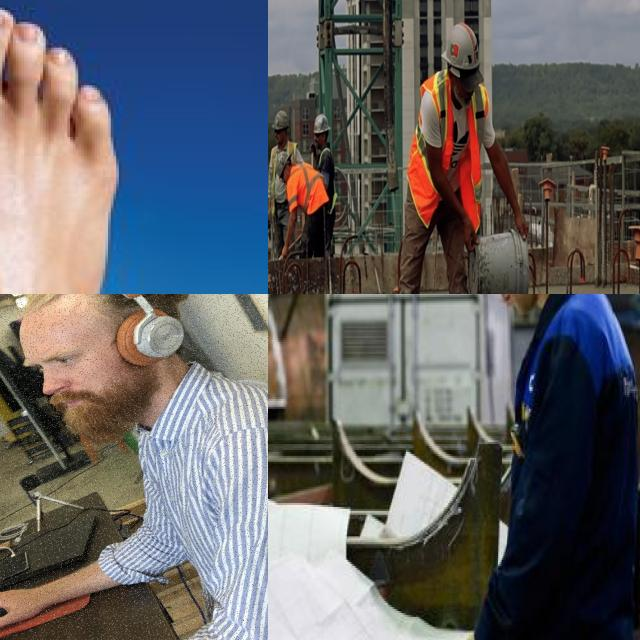Barefoots: (0, 2, 130, 294)
Ear-protection: (0, 294, 221, 469)
face_nomask: (500, 294, 536, 315)
head_helmet: (444, 21, 477, 71), (276, 158, 293, 187), (272, 108, 291, 131), (312, 114, 331, 135)
person: (392, 23, 541, 294), (275, 151, 329, 294), (304, 108, 341, 260), (268, 105, 303, 260)
vest: (409, 69, 485, 248), (285, 143, 333, 214)
